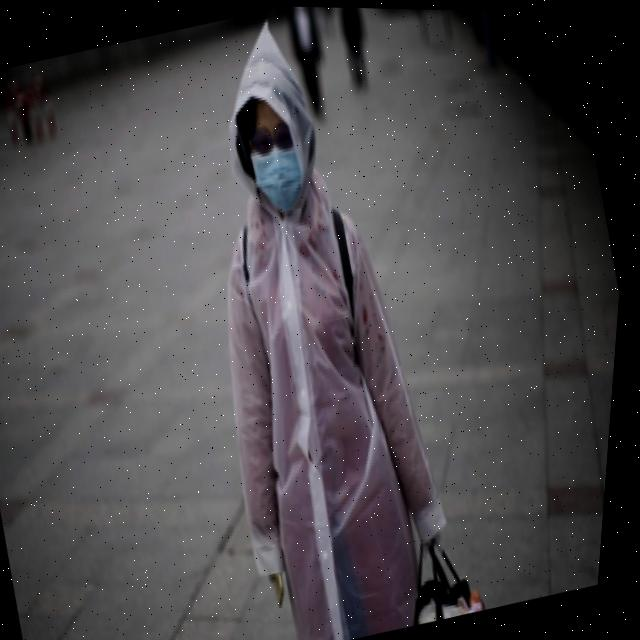Mask: (241, 132, 331, 222)
